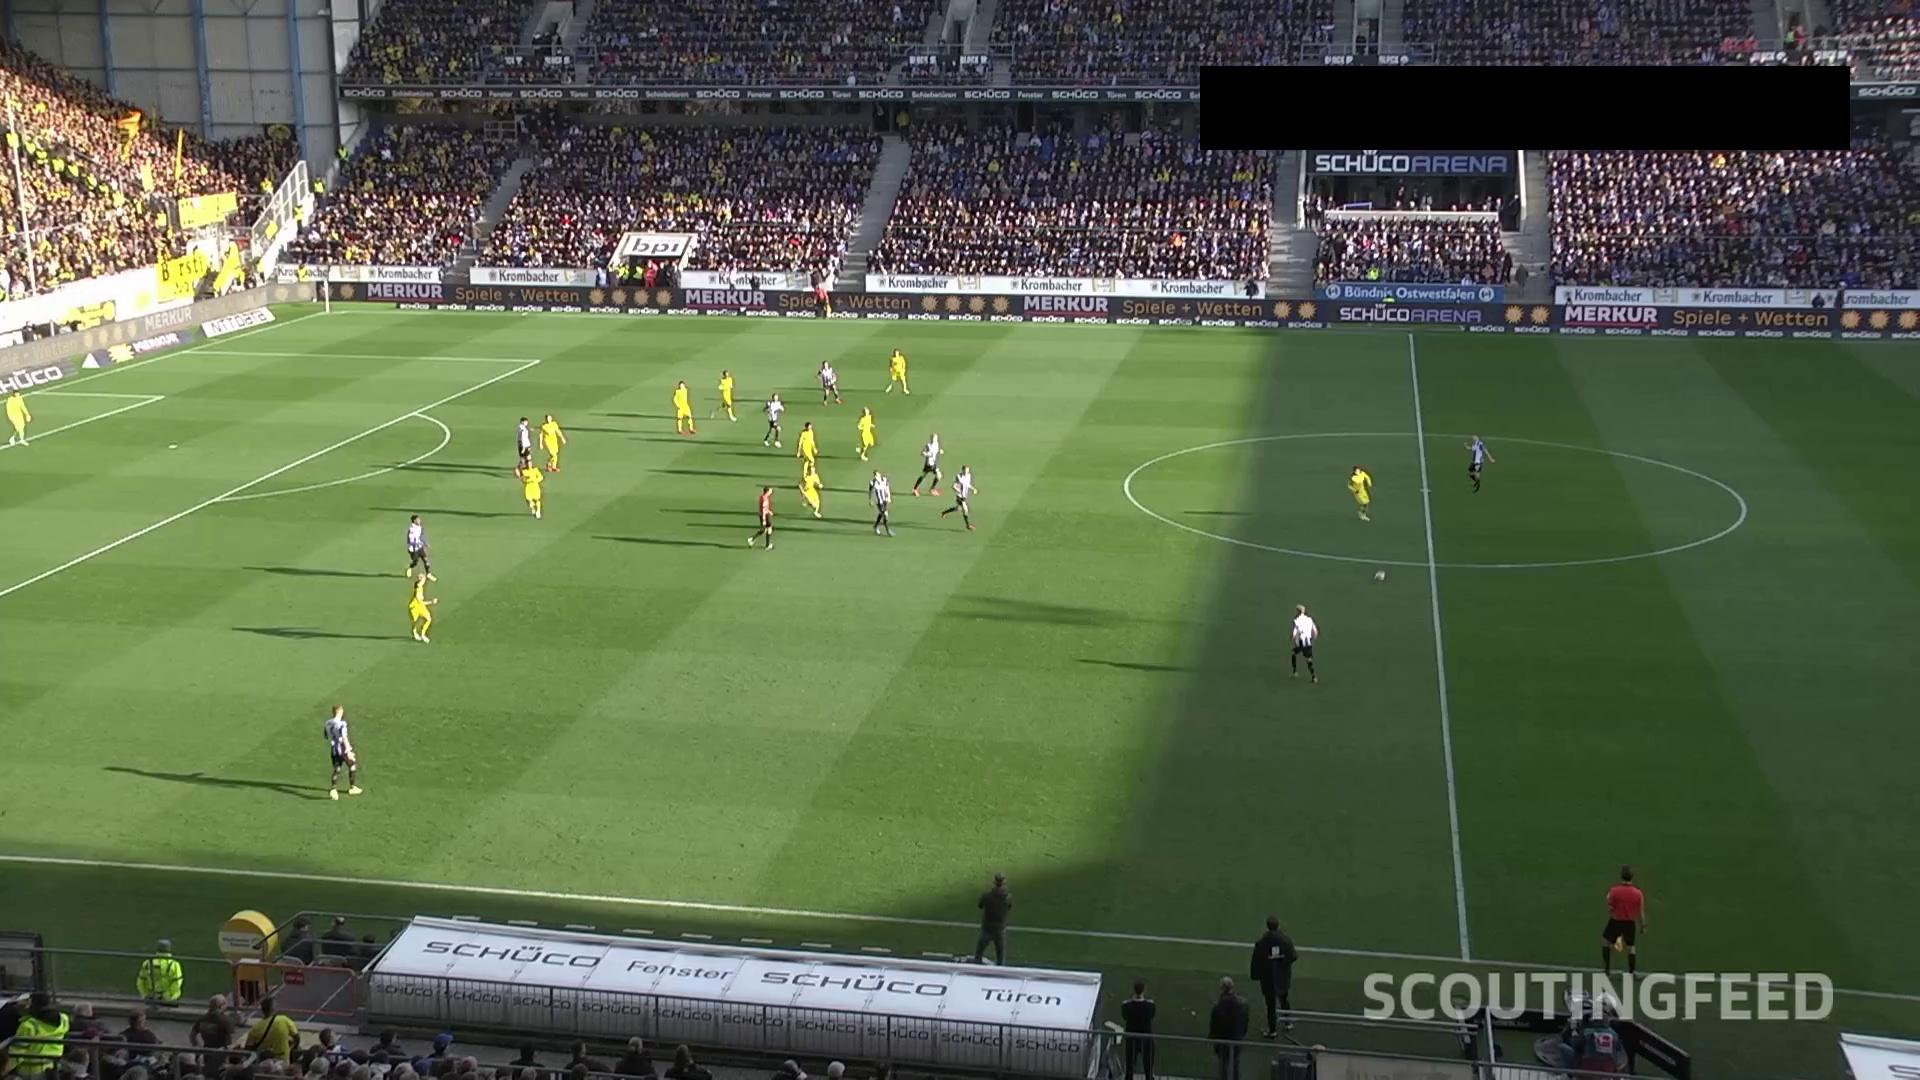Location-of-ball: (1374, 563, 1399, 585)
